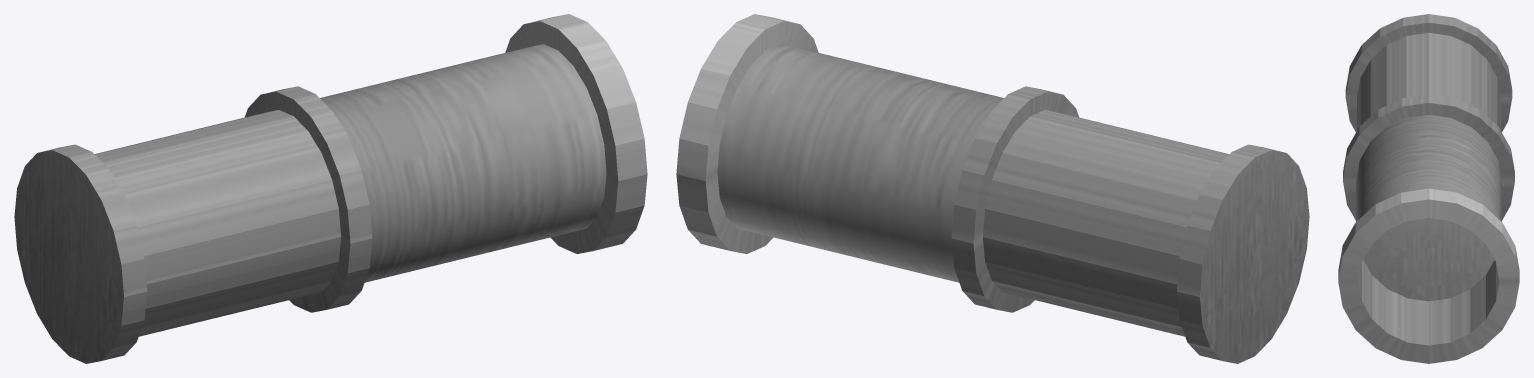
File: MetalPipe.fbx
The picture shows the model from 3 angles, left to right: view 1: azimuth 30°, elevation 25°; view 2: azimuth 150°, elevation 25°; view 3: azimuth 270°, elevation 25°; orthographic projection. The views are drawn at different scales.
Parts seen in each view (by area): view 1: Wall_pipe; view 2: Wall_pipe; view 3: Wall_pipe.
Boxes of the visible parts, x1=… form: Wall_pipe: x1=14, y1=14, x2=647, y2=363; Wall_pipe: x1=676, y1=14, x2=1309, y2=363; Wall_pipe: x1=1338, y1=14, x2=1519, y2=363.
Size of the model in its own units: 563 by 225 by 225.
